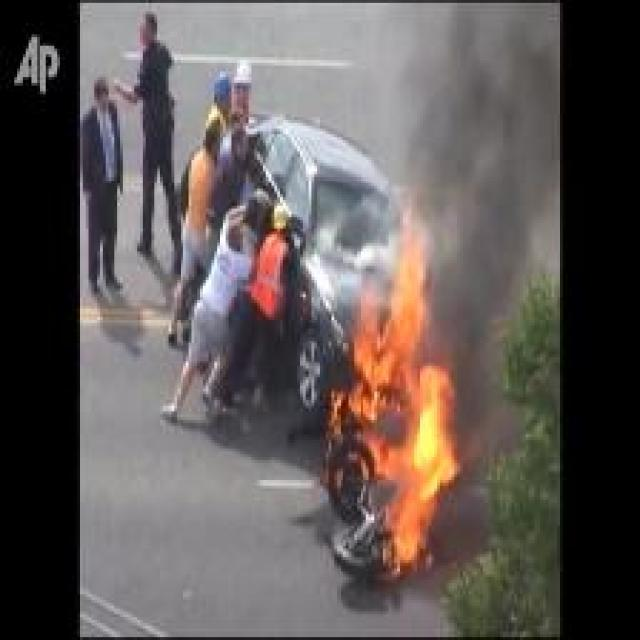Fire: (324, 234, 459, 577)
